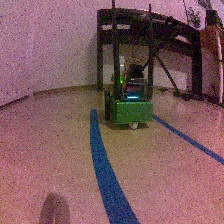rob: (102, 61, 154, 130)
